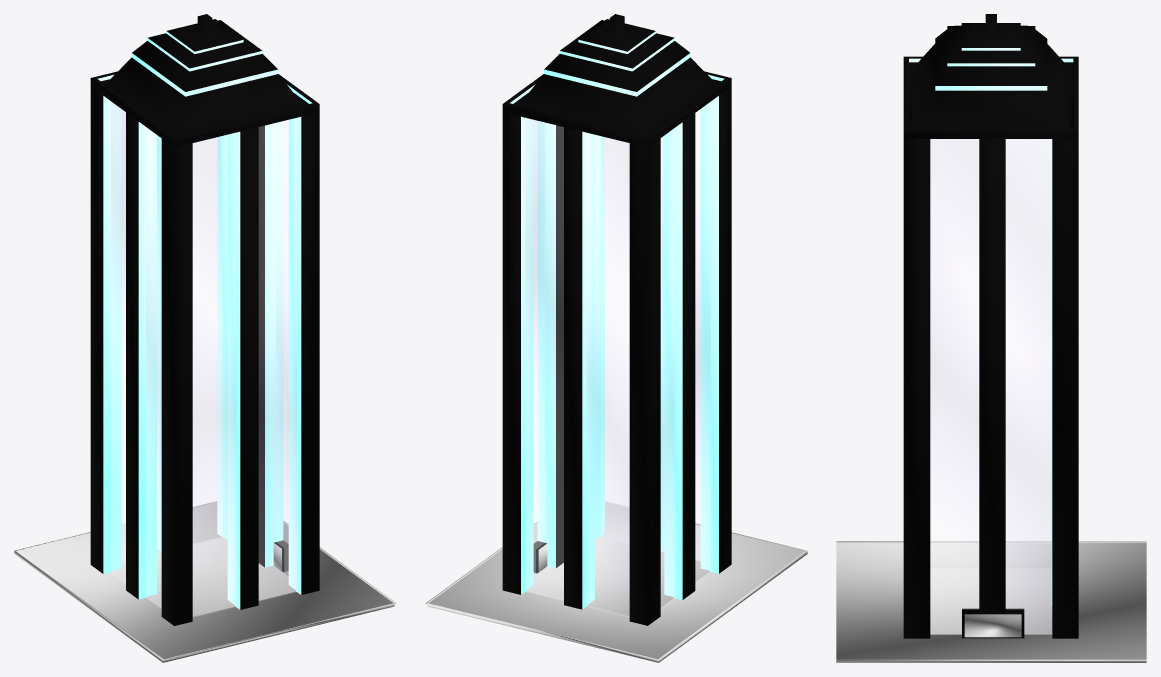
The model's file is building1.glb.
3 renders of one model, left to right at view 1: azimuth 30°, elevation 25°; view 2: azimuth 150°, elevation 25°; view 3: azimuth 270°, elevation 25°, orthographic. The views are drawn at different scales.
Parts seen in each view (by area): view 1: Old Building; view 2: Old Building; view 3: Old Building.
Part boxes in pixels (x1,y1,x2,y2): Old Building: (14,14,396,662); Old Building: (426,14,807,662); Old Building: (836,14,1146,662).
Bounding box in the file's own units: 62.41 × 144 × 68.86.
